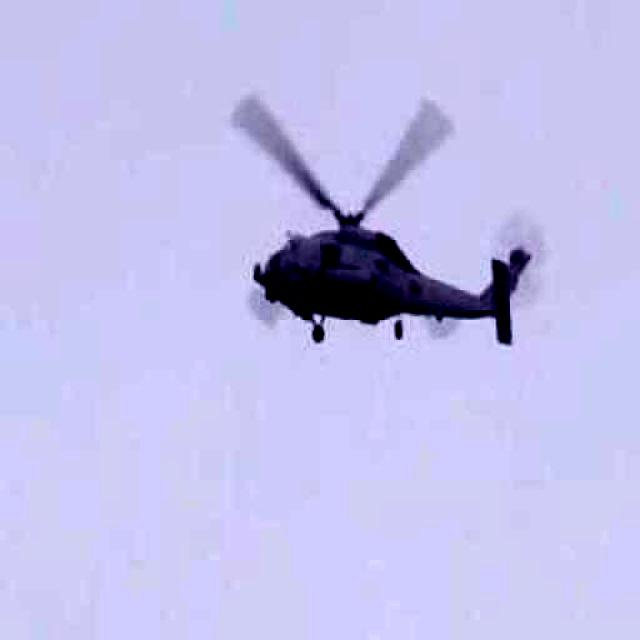drone: (182, 55, 566, 385)
